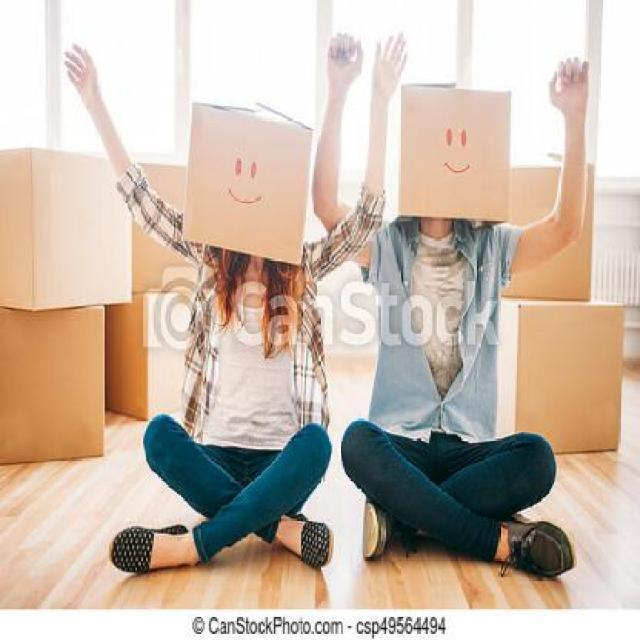box: (0, 146, 139, 313), (494, 290, 624, 456), (182, 98, 308, 264), (0, 300, 108, 467), (398, 80, 511, 224), (509, 152, 592, 302), (103, 288, 192, 421), (127, 155, 200, 290)
